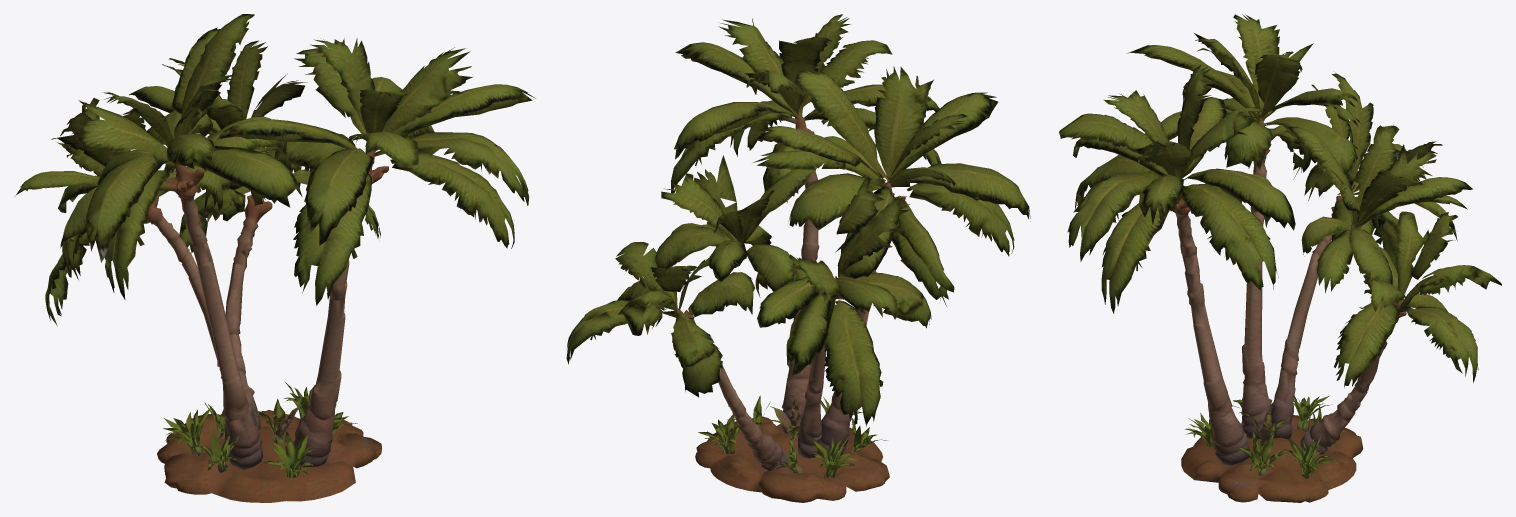
File: jun_leaning_palm_cluster_LOD0.glb
3 views of the same model, side by side, from view 1: azimuth 30°, elevation 25°; view 2: azimuth 150°, elevation 25°; view 3: azimuth 270°, elevation 25° (orthographic). The views are drawn at different scales.
Parts seen in each view (by area): view 1: tripo_node_82022841-fae1-4120-8960-4bbcf65c6de9; view 2: tripo_node_82022841-fae1-4120-8960-4bbcf65c6de9; view 3: tripo_node_82022841-fae1-4120-8960-4bbcf65c6de9.
Part boxes in pixels (x1,y1,x2,y2): tripo_node_82022841-fae1-4120-8960-4bbcf65c6de9: (15,14,535,502); tripo_node_82022841-fae1-4120-8960-4bbcf65c6de9: (566,14,1030,502); tripo_node_82022841-fae1-4120-8960-4bbcf65c6de9: (1059,14,1501,502).
Size of the model in its own units: 0.9824 by 0.998 by 0.998.
1 material, 1 textured.
